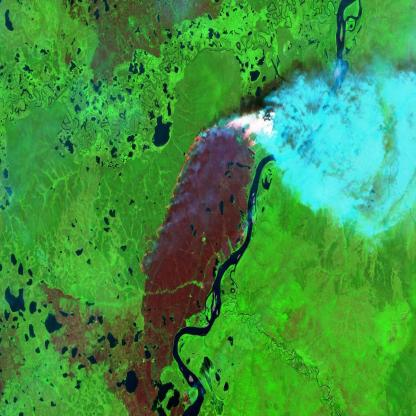fire: (138, 105, 276, 283)
